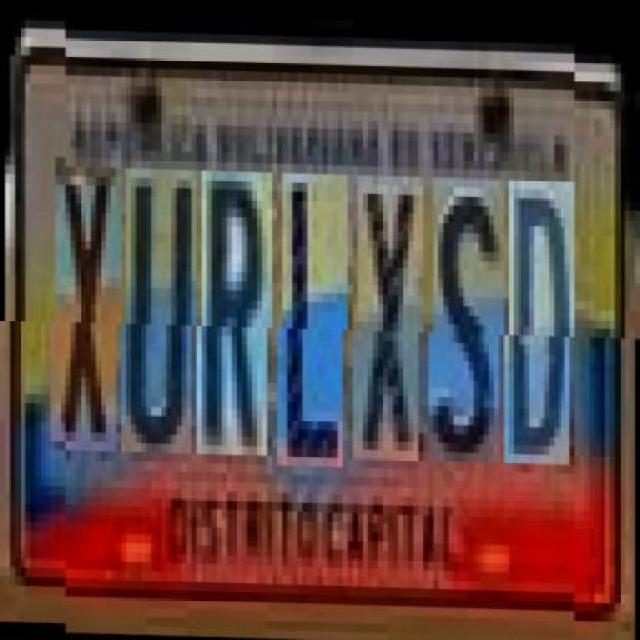d: (508, 177, 574, 461)
l: (282, 172, 348, 466)
r: (202, 170, 272, 455)
s: (433, 175, 504, 460)
u: (126, 169, 197, 453)
x: (54, 166, 120, 451), (359, 173, 423, 458)
